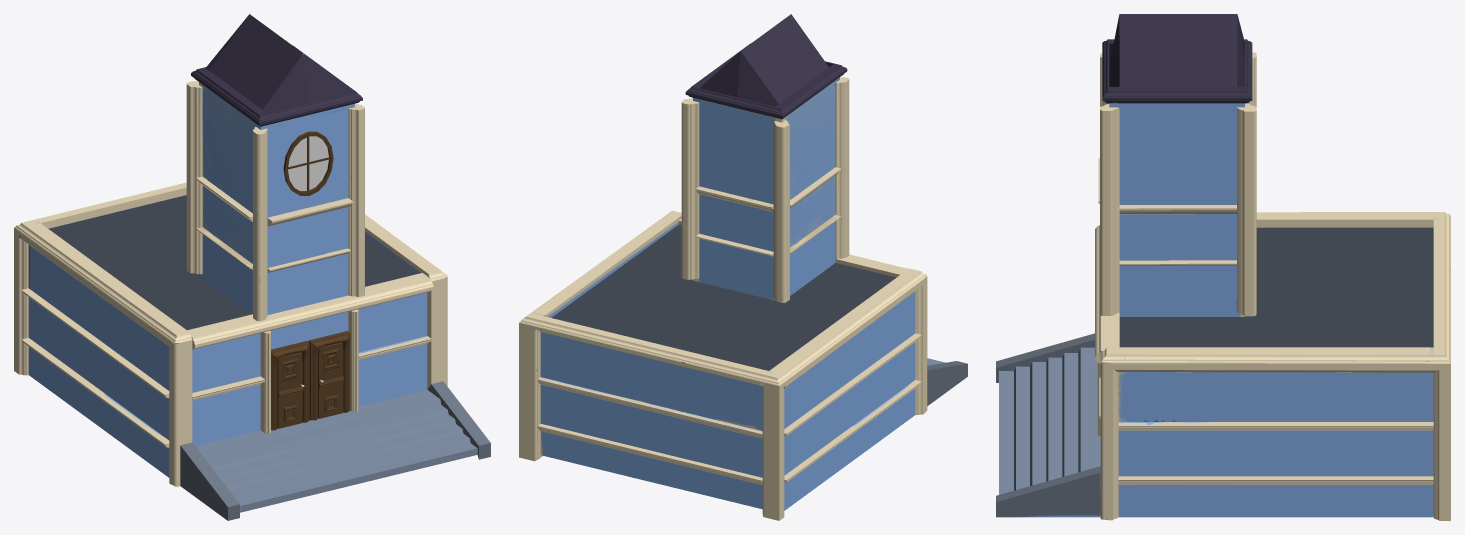
The model's file is text_Batiment2.fbx.
The picture shows the model from 3 angles, left to right: view 1: azimuth 30°, elevation 25°; view 2: azimuth 150°, elevation 25°; view 3: azimuth 270°, elevation 25°; orthographic projection. The views are drawn at different scales.
Visible parts, largest first — view 1: Cube; view 2: Cube; view 3: Cube.
Boxes of the visible parts, left/top/right/bottom form: Cube: left=14, top=14, right=490, bottom=520; Cube: left=519, top=14, right=967, bottom=520; Cube: left=996, top=14, right=1450, bottom=520.
Size of the model in its own units: 2108 by 2866 by 2730.
1 material, 1 textured.
